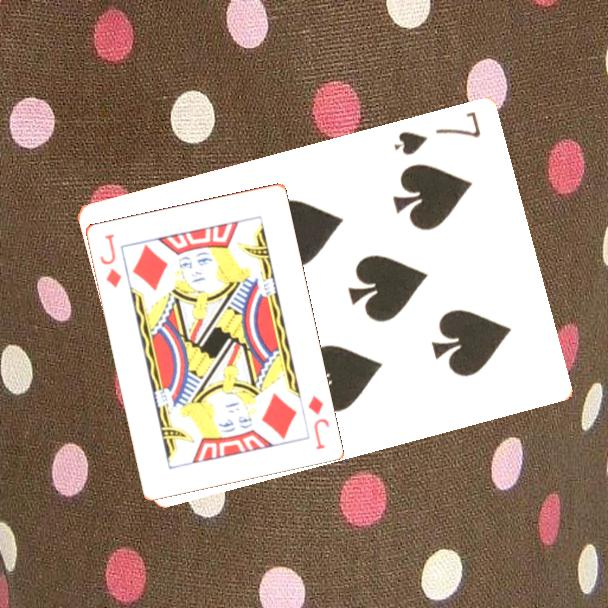d11: (96, 230, 124, 290), (304, 392, 332, 452)
s07: (390, 107, 484, 158)
